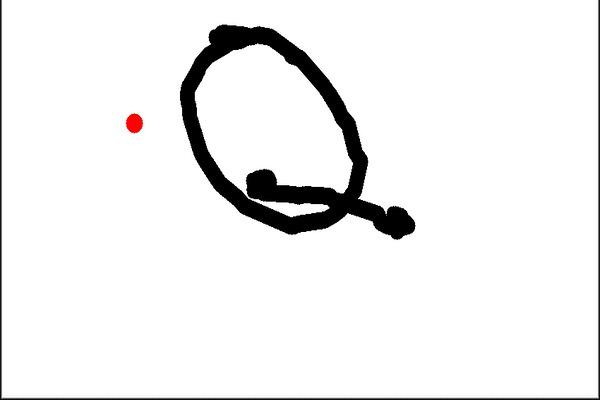Q: (168, 17, 438, 263)
